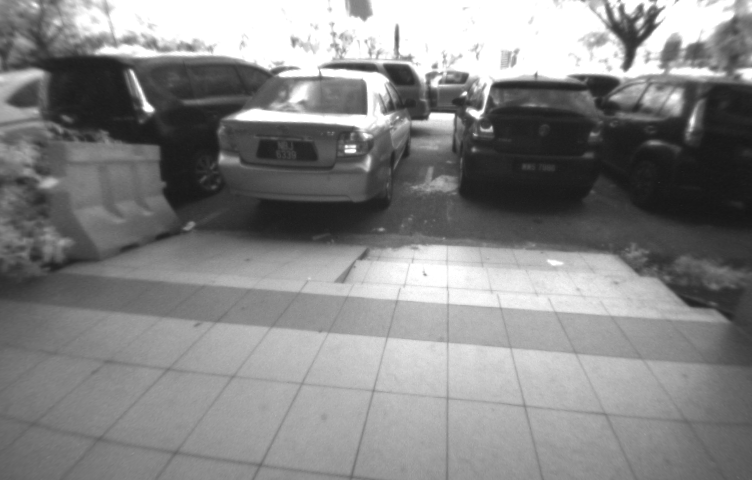down_steps: (331, 236, 747, 343)
mixed_gradient: (296, 237, 389, 304)
